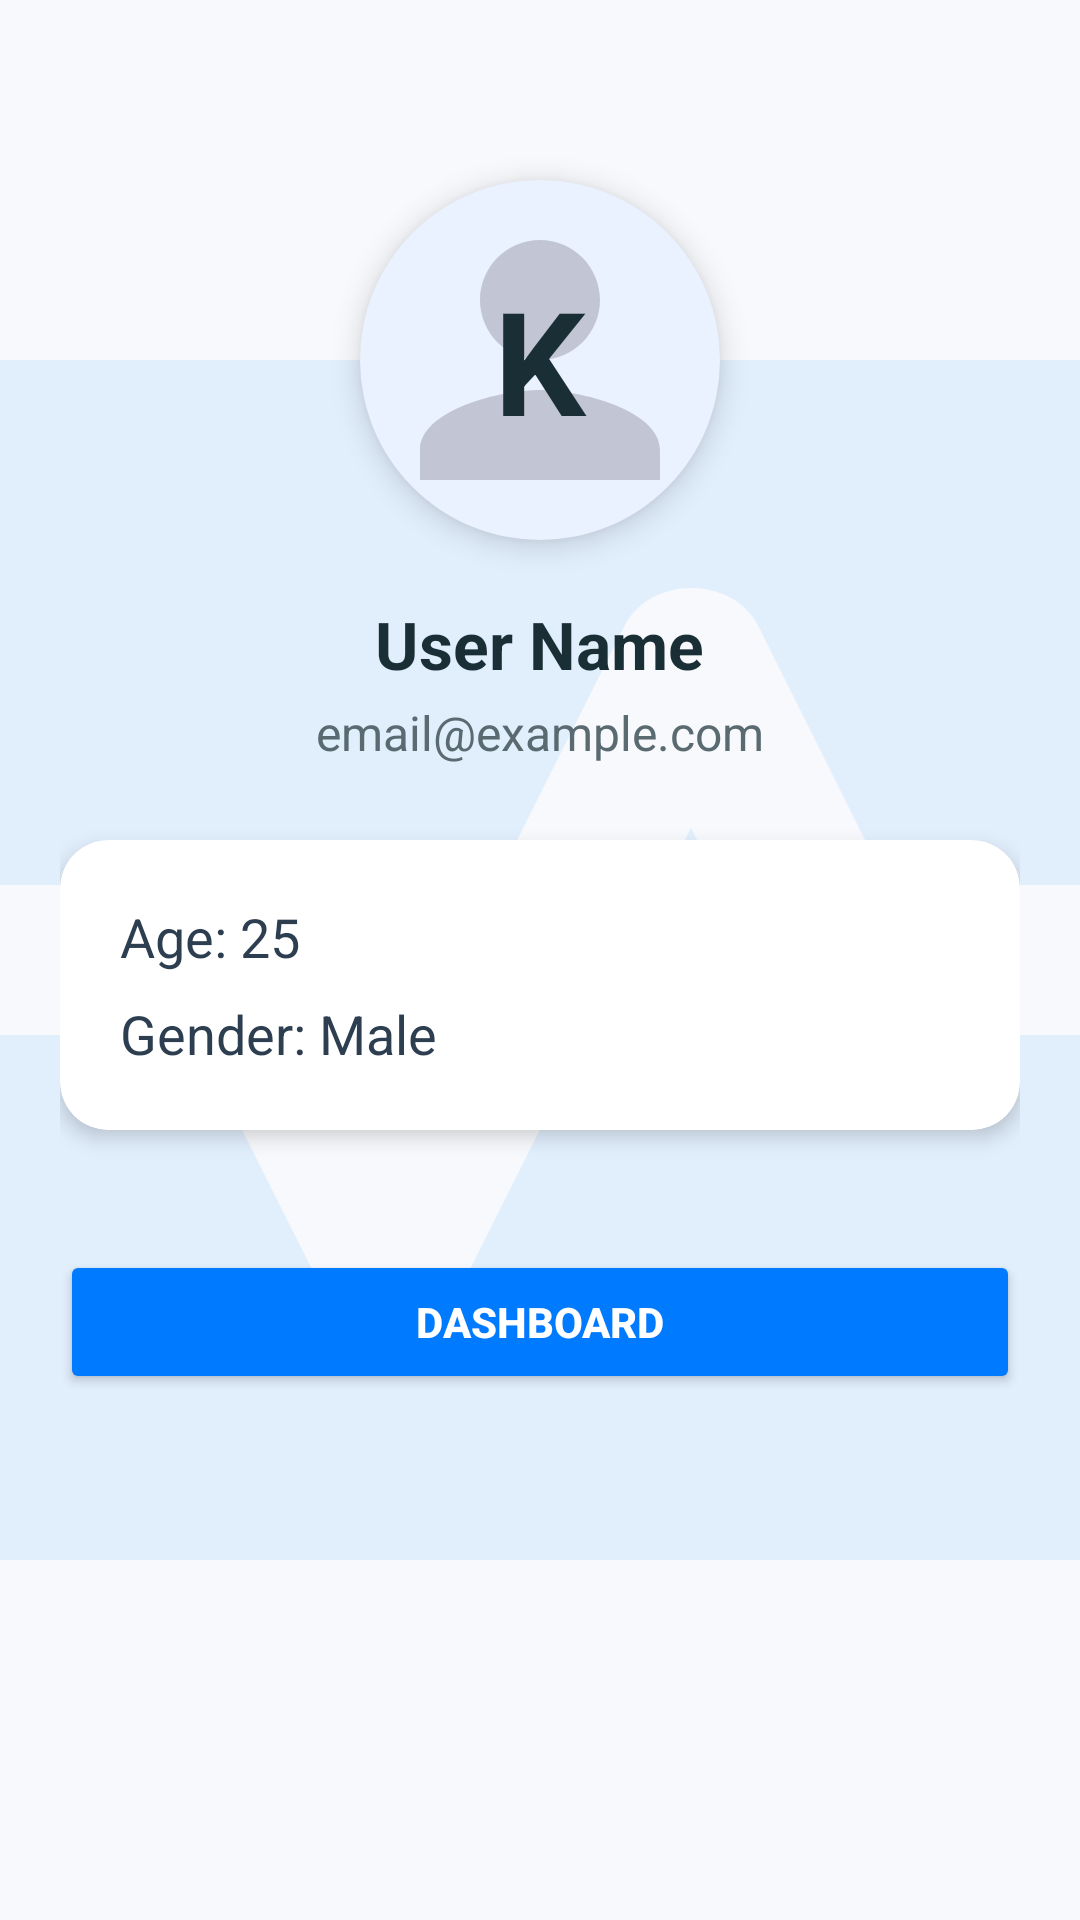

Screen size 1080w x 1920h. Icon name, then its box in pixels as {"x1": x1, "y1": y1, "x2": x2, "y2": y2}:
profile: {"x1": 420, "y1": 240, "x2": 660, "y2": 480}
